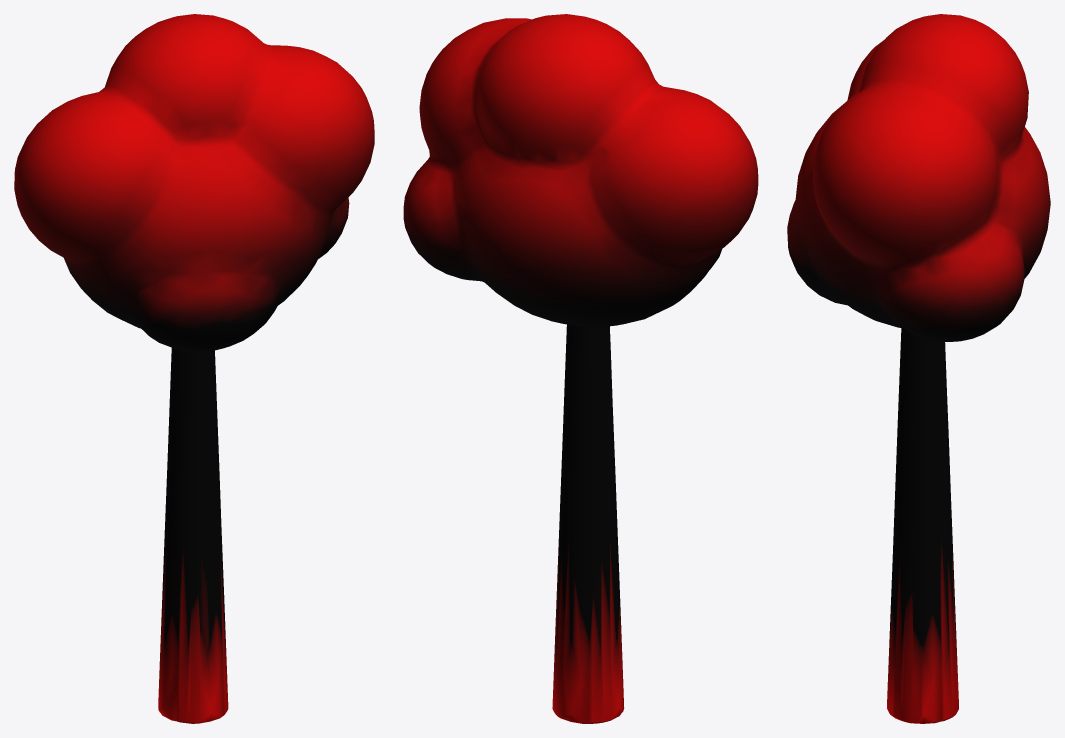
The model's file is bg-jungle-a.glb.
3 renders of one model, left to right at view 1: azimuth 30°, elevation 25°; view 2: azimuth 150°, elevation 25°; view 3: azimuth 270°, elevation 25°, orthographic. The views are drawn at different scales.
Visible parts, largest first — view 1: crown, trunk; view 2: crown, trunk; view 3: crown, trunk.
Boxes of the visible parts, x1,y1,x2,y2 form: crown: (14,14,374,351); trunk: (158,348,228,723); crown: (403,14,758,326); trunk: (552,324,624,723); crown: (787,14,1050,341); trunk: (887,328,958,723).
Bounding box in the file's own units: 8.94 × 17.88 × 6.17.
